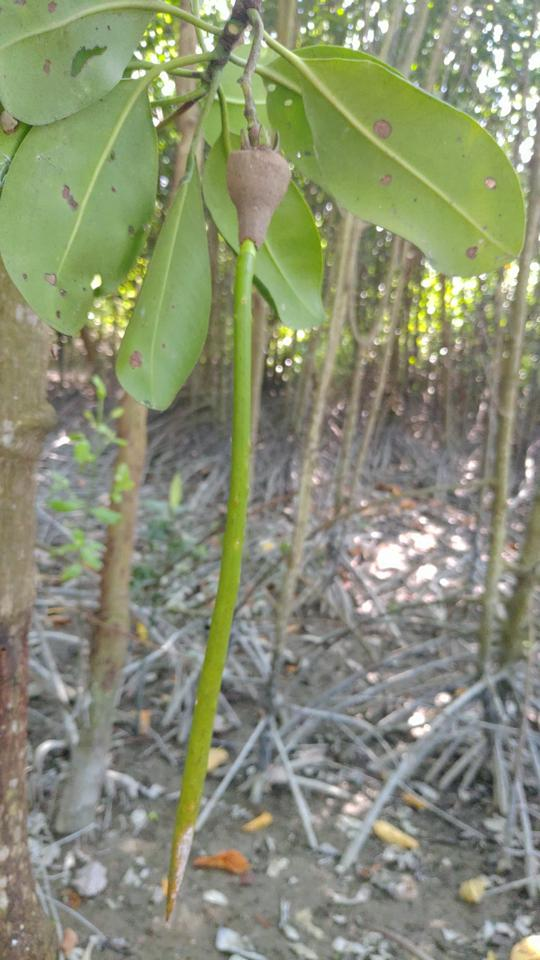setengah matang: (156, 123, 306, 930)
